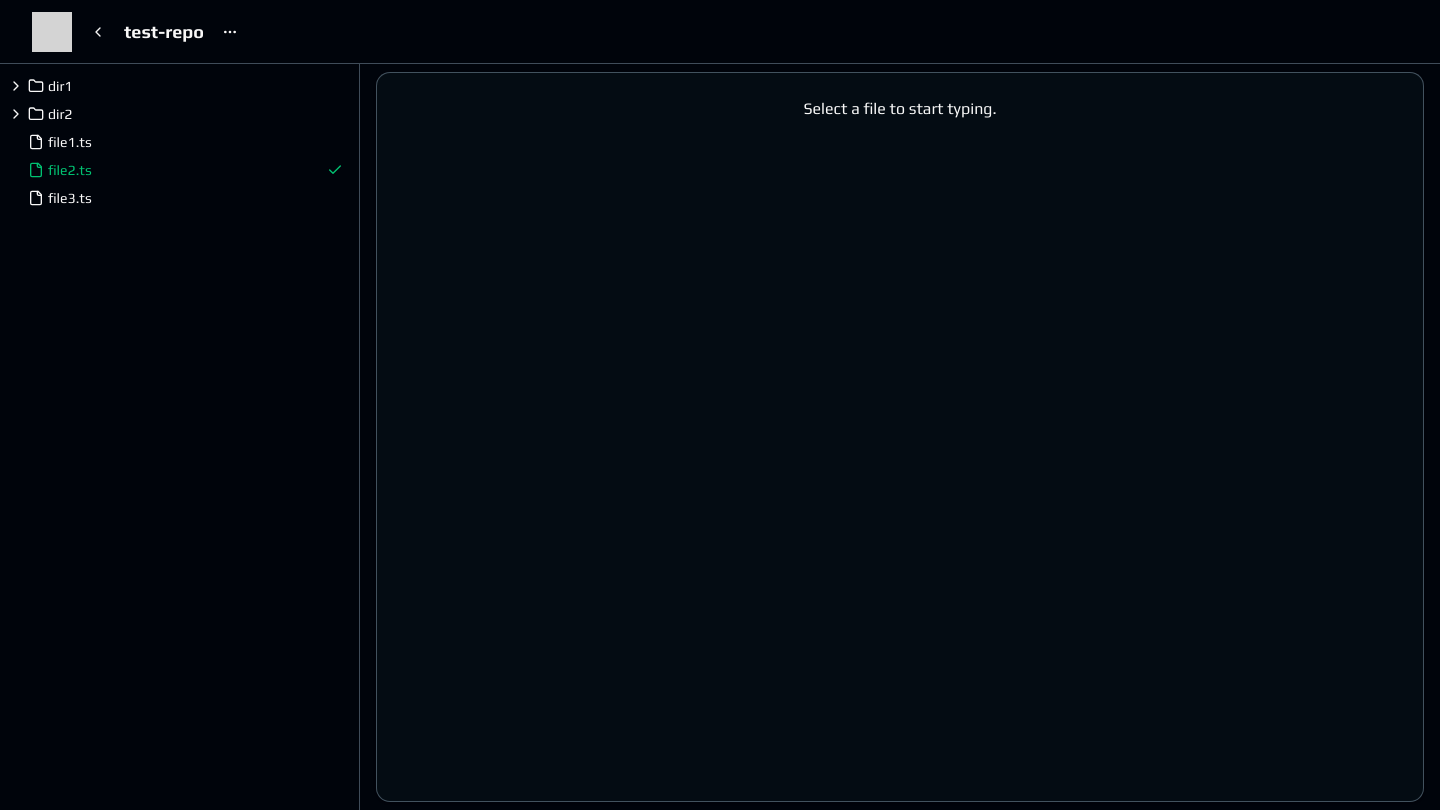
Test: RepositoryDetailPage › when file is clicked › renders unsupported file message and does not render play button when file status is unsupported
Step 1. Click the button "dir1" → {"x": 16, "y": 86}, box [8,72,351,100]
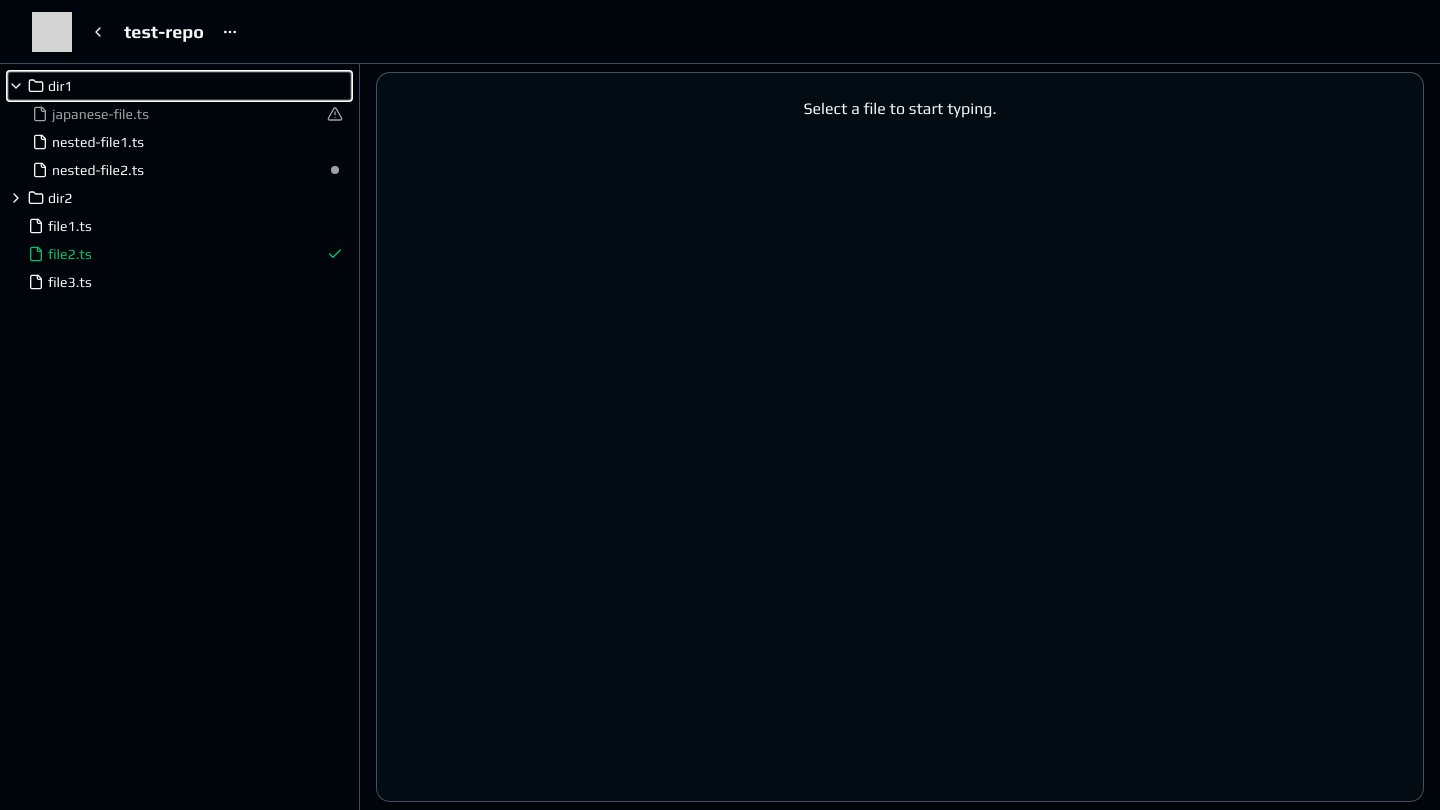
Step 2. Click the button "japanese-file.ts" → {"x": 100, "y": 114}, box [12,100,351,128]
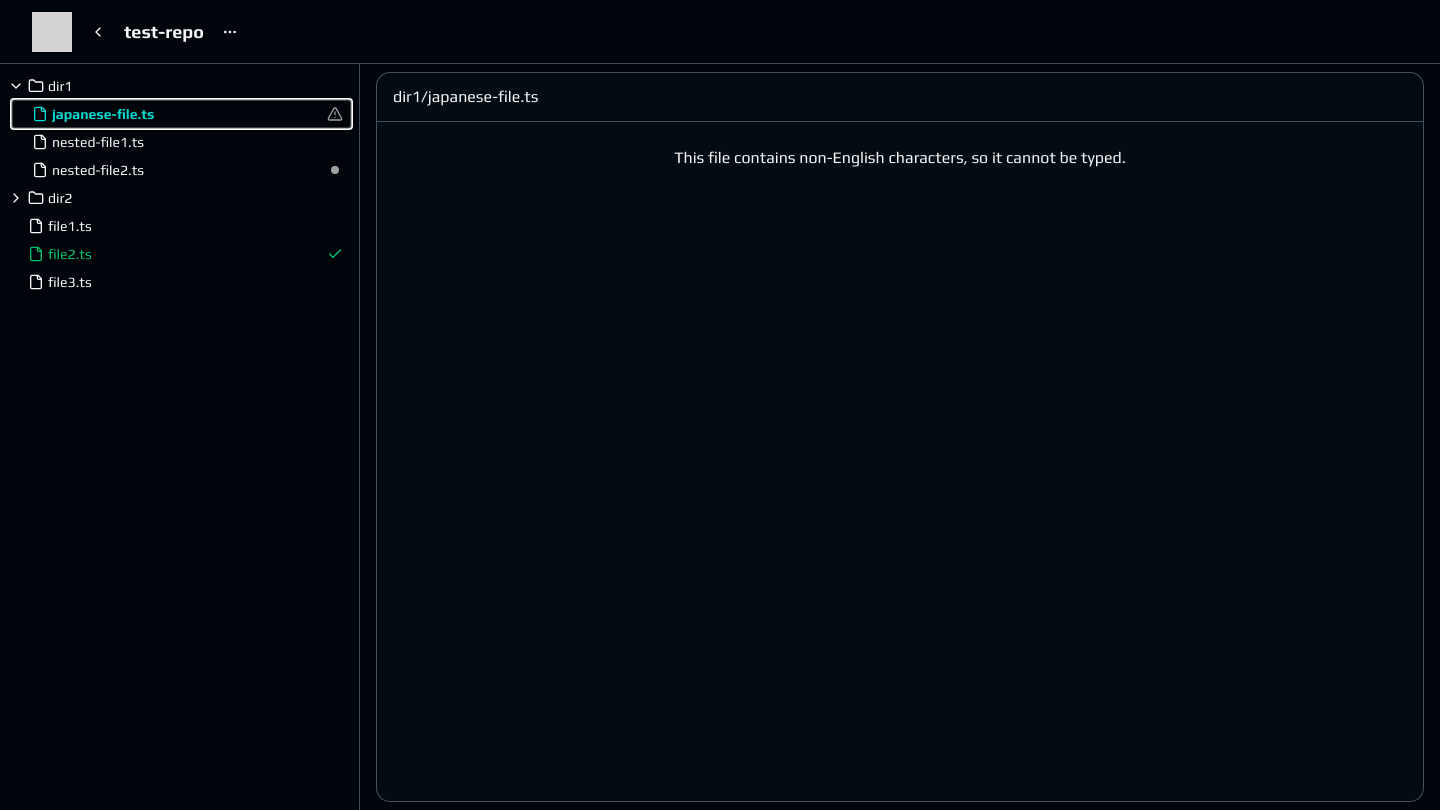
Result: the text "This file contains non-English characters, so it cannot be typed." is shown at [674,148,1126,167]
